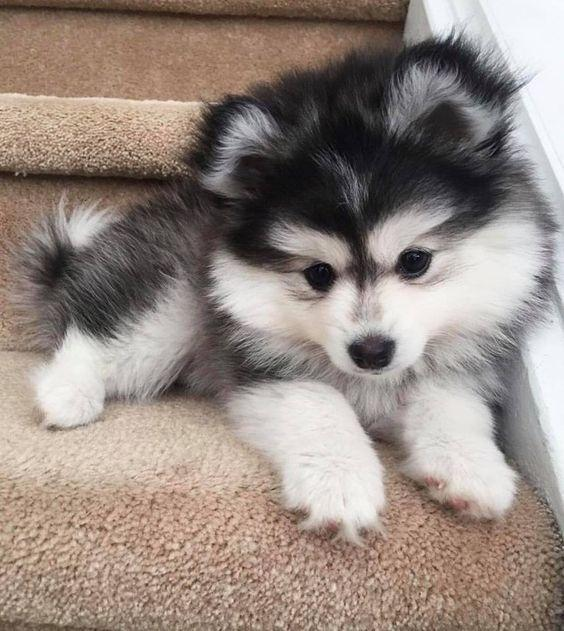puppy-dog: (22, 23, 553, 543)
